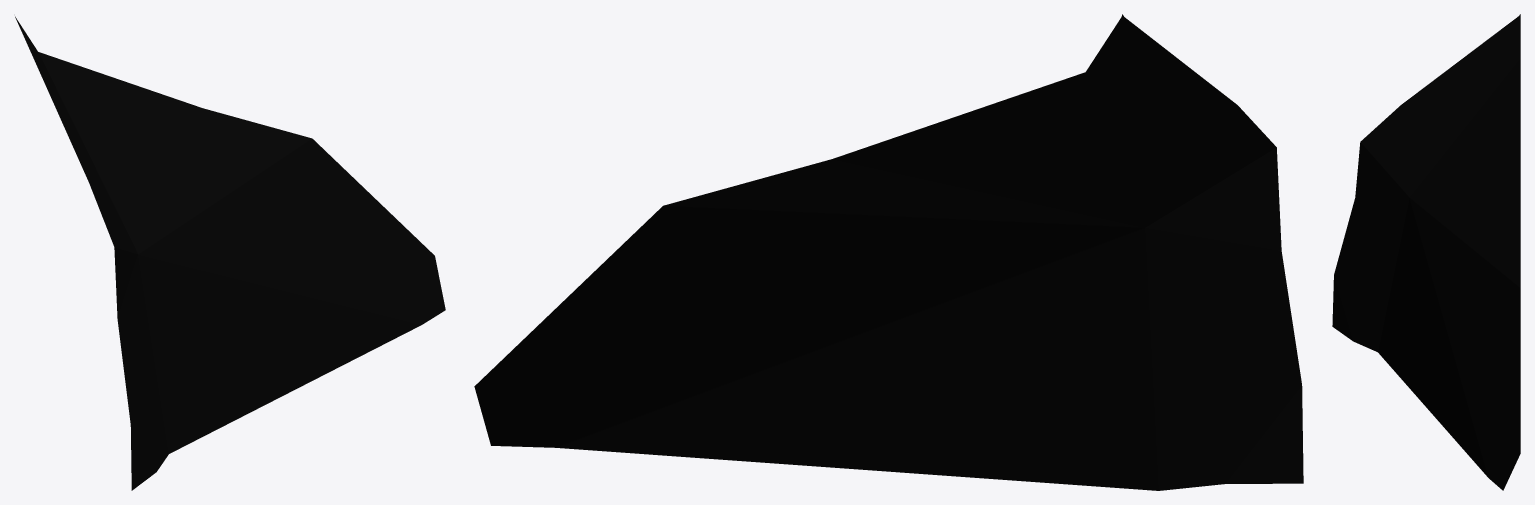
3 views of the same model, side by side, from view 1: azimuth 30°, elevation 25°; view 2: azimuth 150°, elevation 25°; view 3: azimuth 270°, elevation 25° (orthographic). The views are drawn at different scales.
Size of the model in its own units: 0.8373 by 0.7434 by 0.4052.
Materials: 2 (2 with a texture image).
